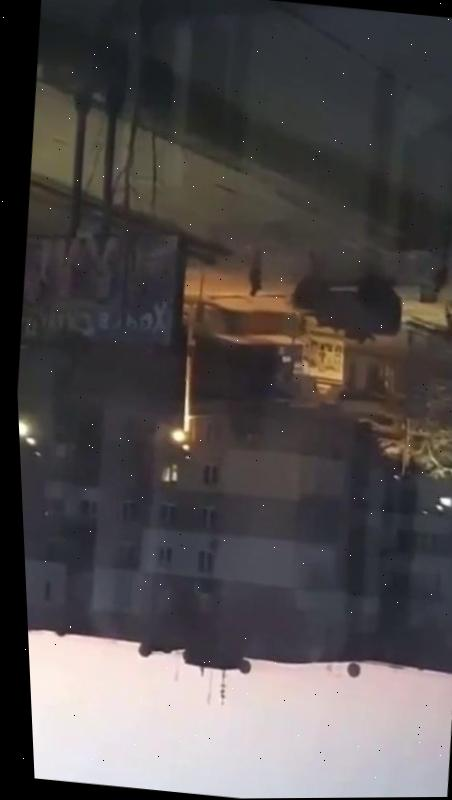armored_car: (284, 267, 407, 351)
person: (245, 247, 266, 300), (438, 304, 452, 348)
